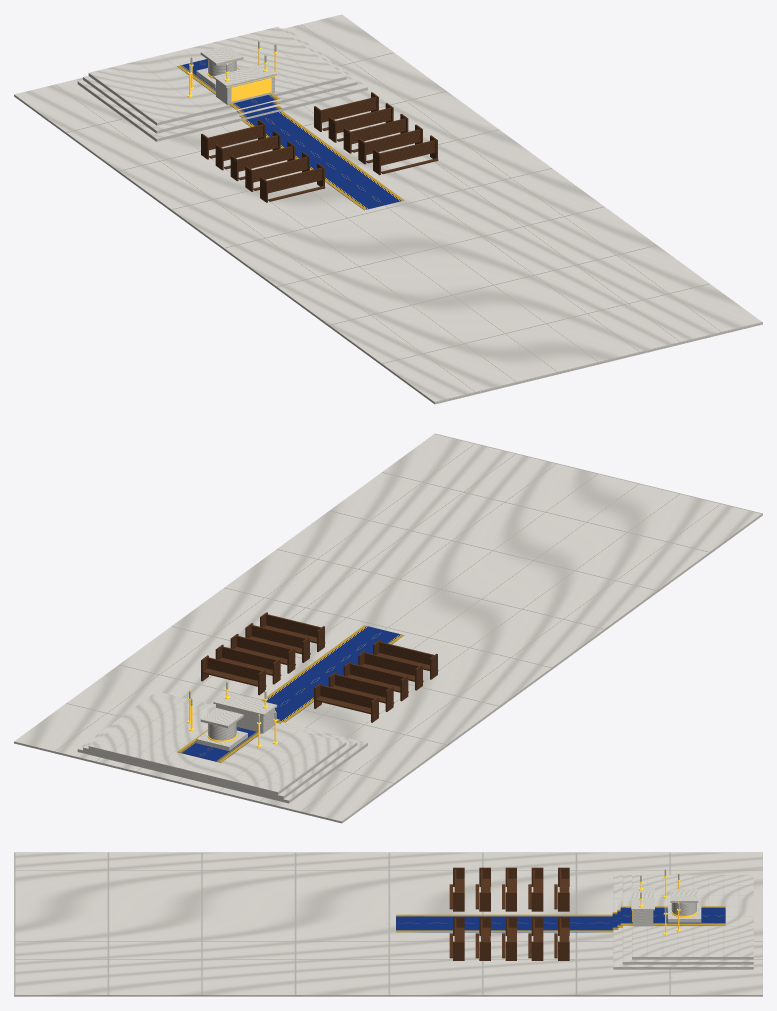
The model's file is Cathedral_Altar_Props.glb.
The picture shows the model from 3 angles, top to bottom: view 1: azimuth 30°, elevation 25°; view 2: azimuth 150°, elevation 25°; view 3: azimuth 270°, elevation 25°; orthographic projection. The views are drawn at different scales.
Parts seen in each view (by area): view 1: Sanctuary_Marble_Floor_And_Altar, Church_Wooden_Pews, Marian_Blue_Carpet_Runner, Sanctuary_Gold_Accents; view 2: Sanctuary_Marble_Floor_And_Altar, Church_Wooden_Pews, Marian_Blue_Carpet_Runner; view 3: Sanctuary_Marble_Floor_And_Altar, Church_Wooden_Pews, Marian_Blue_Carpet_Runner, Sanctuary_Gold_Accents.
Part boxes in pixels (<box>): Sanctuary_Marble_Floor_And_Altar: <box>14,14,762,404</box>; Church_Wooden_Pews: <box>201,92,438,202</box>; Marian_Blue_Carpet_Runner: <box>177,59,404,210</box>; Sanctuary_Gold_Accents: <box>187,39,277,101</box>; Sanctuary_Marble_Floor_And_Altar: <box>14,433,762,823</box>; Church_Wooden_Pews: <box>201,612,438,722</box>; Marian_Blue_Carpet_Runner: <box>177,625,404,762</box>; Sanctuary_Marble_Floor_And_Altar: <box>14,852,762,996</box>; Church_Wooden_Pews: <box>449,867,569,960</box>; Marian_Blue_Carpet_Runner: <box>396,906,725,932</box>; Sanctuary_Gold_Accents: <box>632,868,697,935</box>.
Size of the model in its own units: 30.6 by 4.28 by 68.
Materials: 4 (4 with a texture image).
